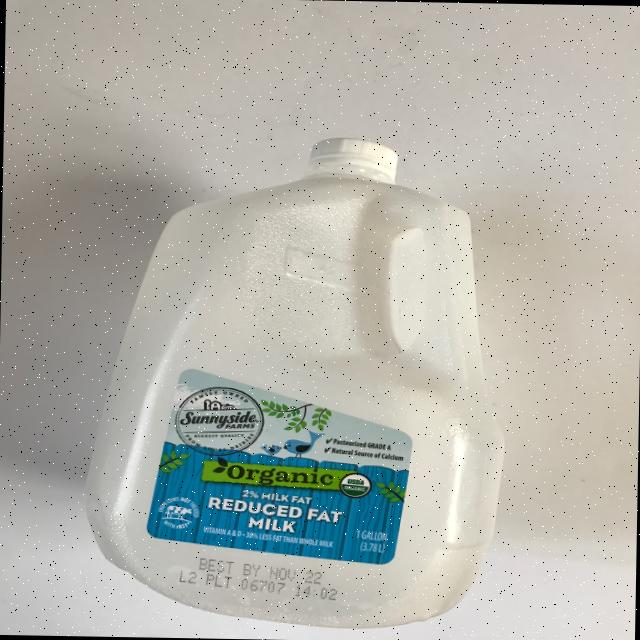plastic: (82, 131, 510, 631)
